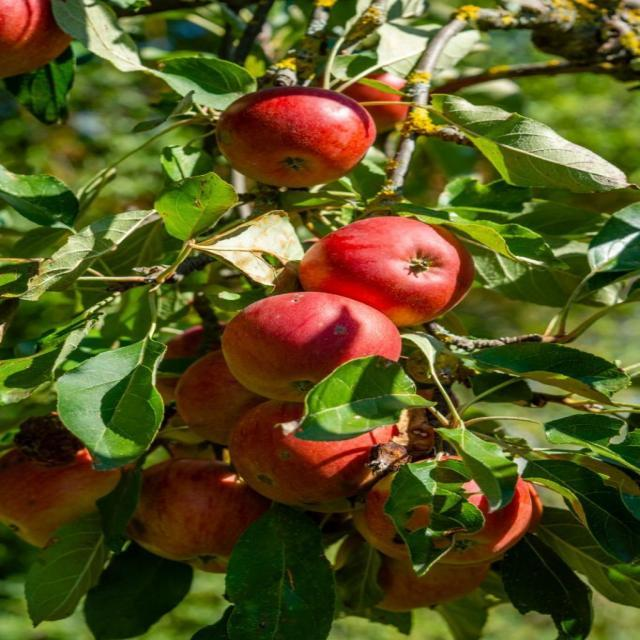Red Apple: (222, 294, 412, 402), (306, 212, 472, 317), (219, 87, 374, 189), (236, 397, 389, 500), (131, 464, 269, 576), (1, 443, 135, 544), (434, 457, 542, 567), (173, 356, 295, 445), (369, 548, 489, 616), (363, 464, 436, 554), (1, 1, 78, 78), (155, 308, 216, 398), (339, 68, 408, 123)
